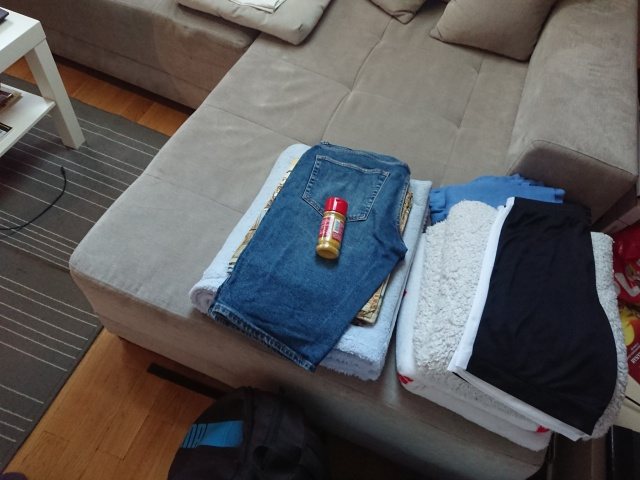Kotanyi Curry Spices Mix 70g: (313, 195, 350, 261)
